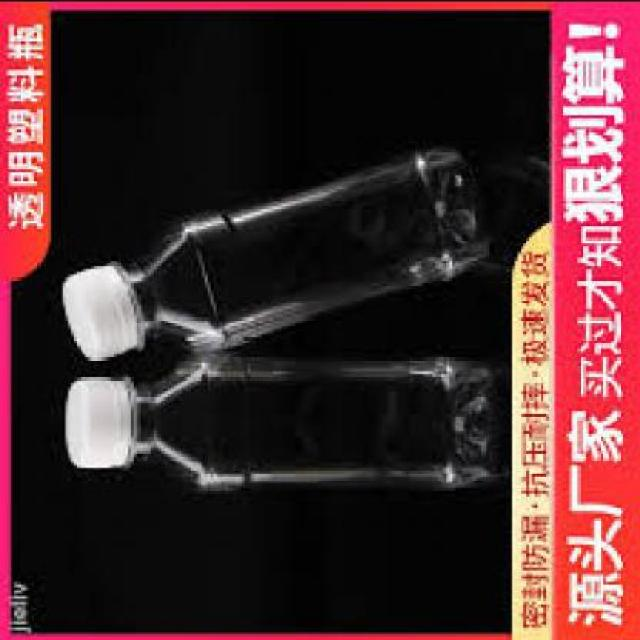PLASTIC: (56, 148, 484, 361), (62, 356, 495, 496), (56, 264, 146, 362), (63, 378, 131, 472)
